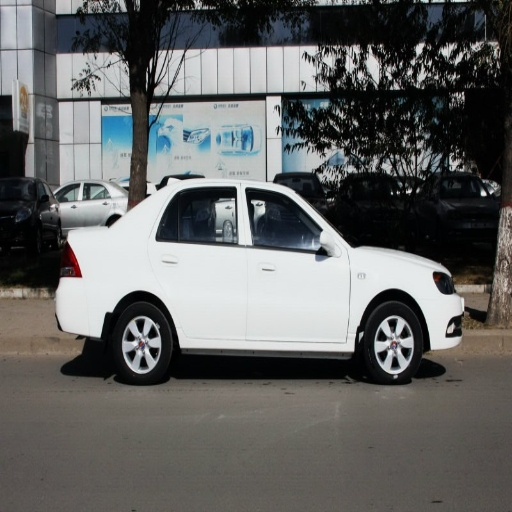back_right_door: (149, 185, 247, 343)
front_right_door: (244, 187, 350, 343)
